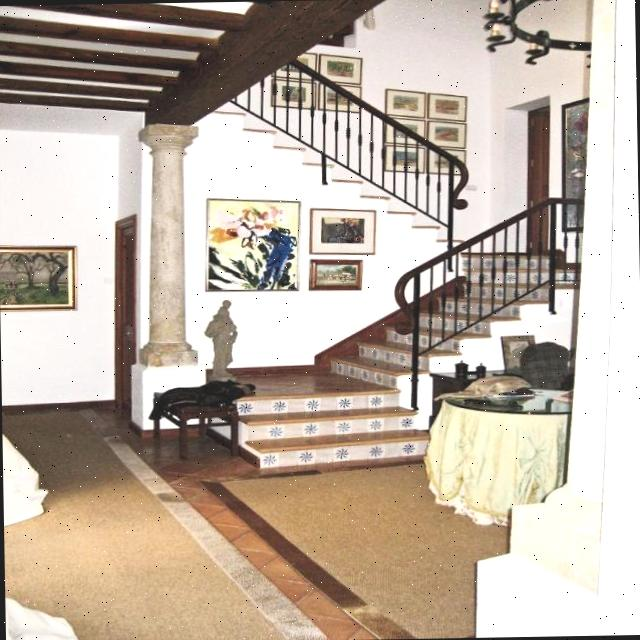stairs: (200, 245, 581, 474)
